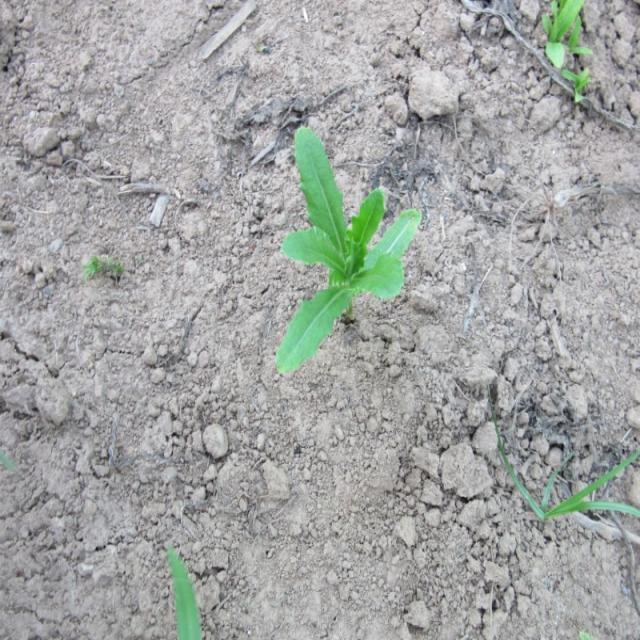cs: (272, 126, 422, 382)
